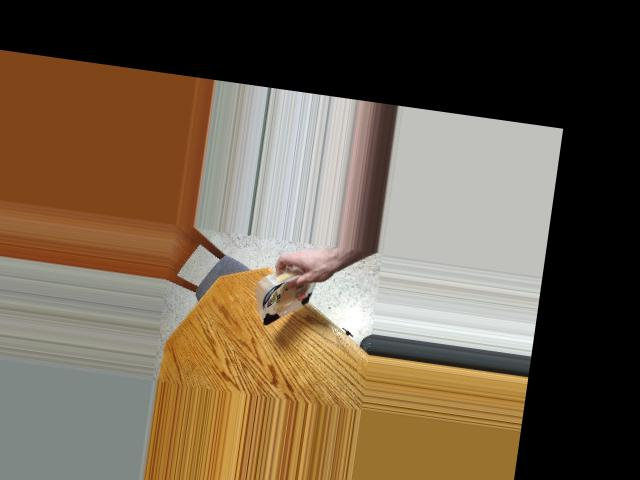cheese: (245, 264, 335, 330)
